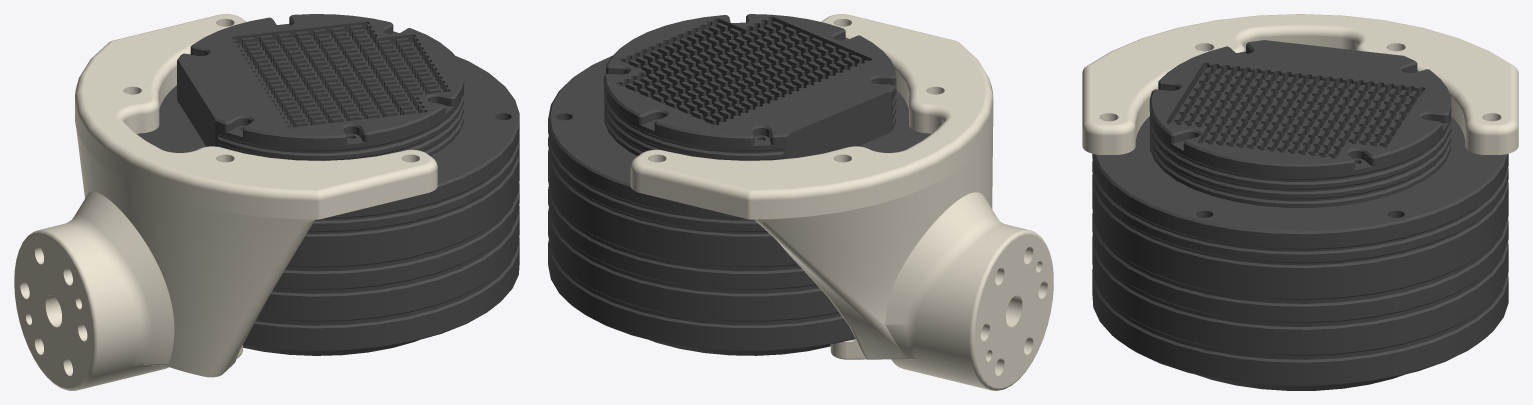
The model's file is r_hip_roll_link.dae.
The picture shows the model from 3 angles, left to right: view 1: azimuth 30°, elevation 25°; view 2: azimuth 150°, elevation 25°; view 3: azimuth 270°, elevation 25°; orthographic projection. The views are drawn at different scales.
Visible parts, largest first — view 1: AK10-9V2-0, ab_ad motor bracket; view 2: AK10-9V2-0, ab_ad motor bracket; view 3: AK10-9V2-0, ab_ad motor bracket.
Boxes of the visible parts, <box> form: AK10-9V2-0: <box>137,14,519,355</box>; ab_ad motor bracket: <box>14,14,437,390</box>; AK10-9V2-0: <box>548,14,931,355</box>; ab_ad motor bracket: <box>630,14,1053,390</box>; AK10-9V2-0: <box>1092,40,1508,390</box>; ab_ad motor bracket: <box>1082,14,1518,154</box>.
Size of the model in its own units: 0.123 by 0.066 by 0.1025.
